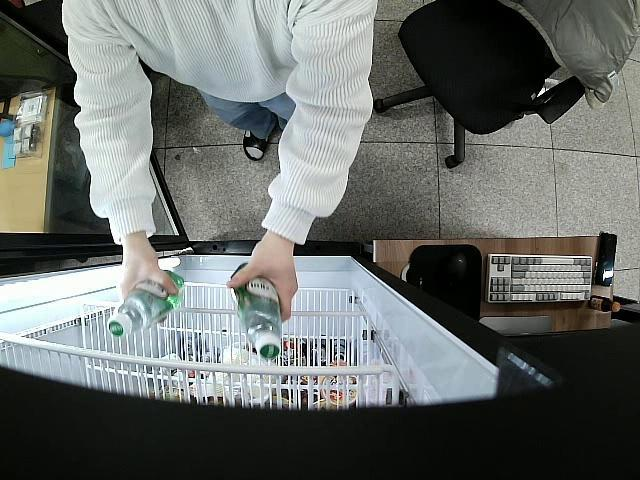18_trevi: (106, 269, 188, 340), (230, 262, 286, 360)
